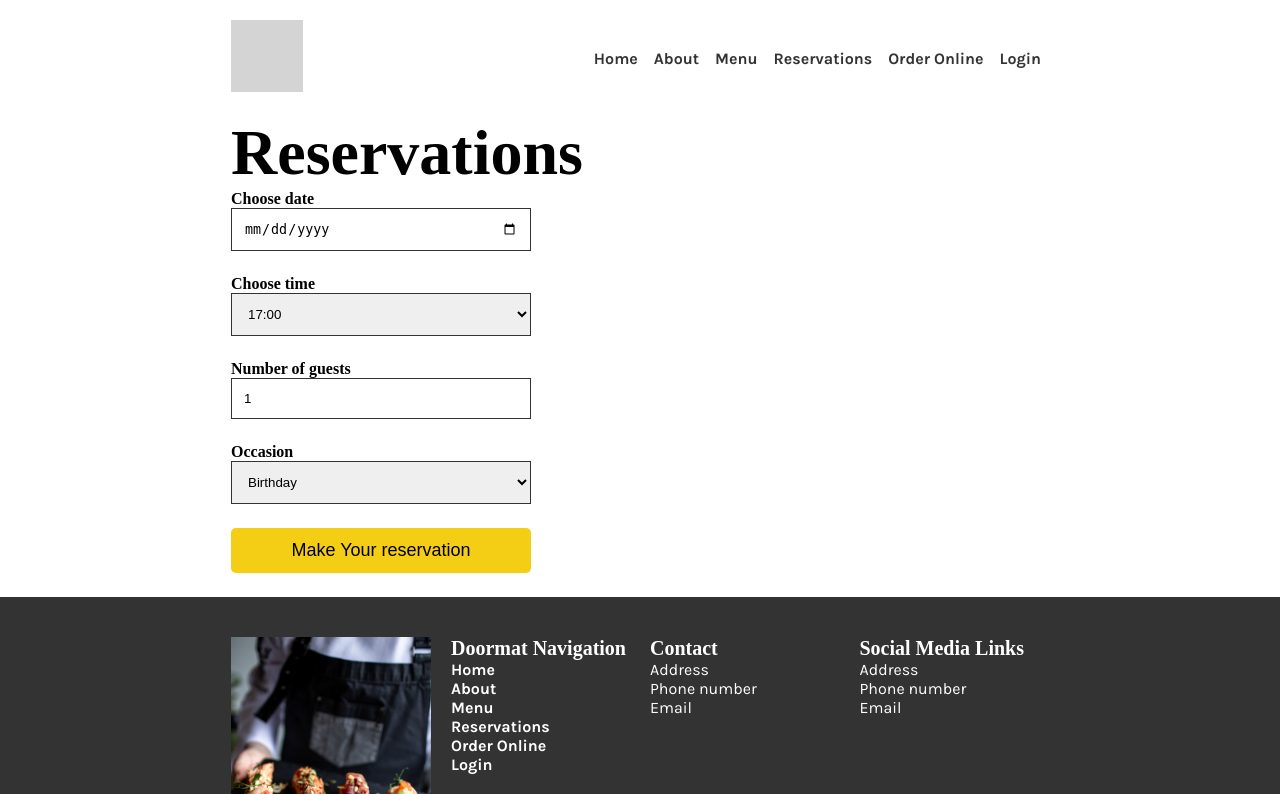
BookingPage › should render guest error if it is filled with value less than 1 or  more than 10
Type "0" into the number field labelled "Number of guests" at (381, 399), box [231,378,531,419]
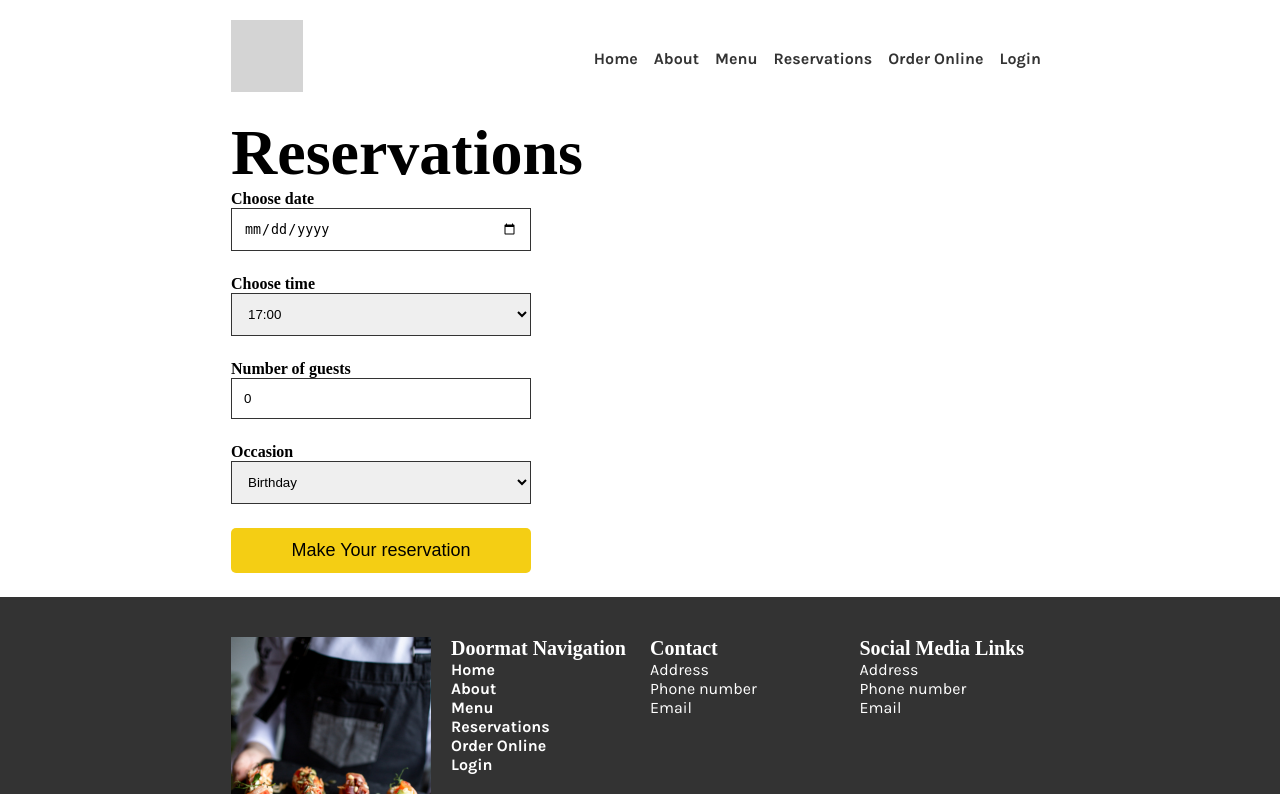
Click the button with aria-label "on click" at (381, 551), box [231,528,531,573]
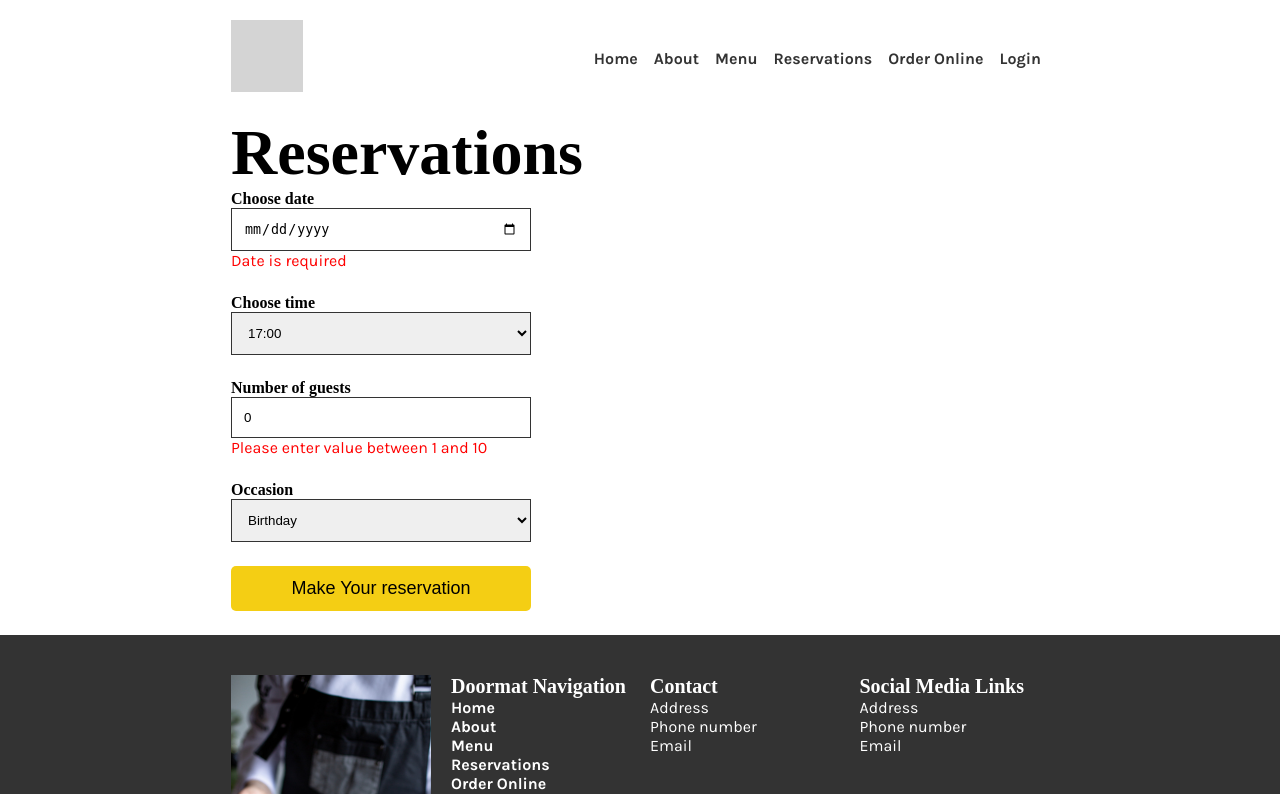
Expected: the text "Please enter value between 1 and 10" is shown, [231,438,531,457]
